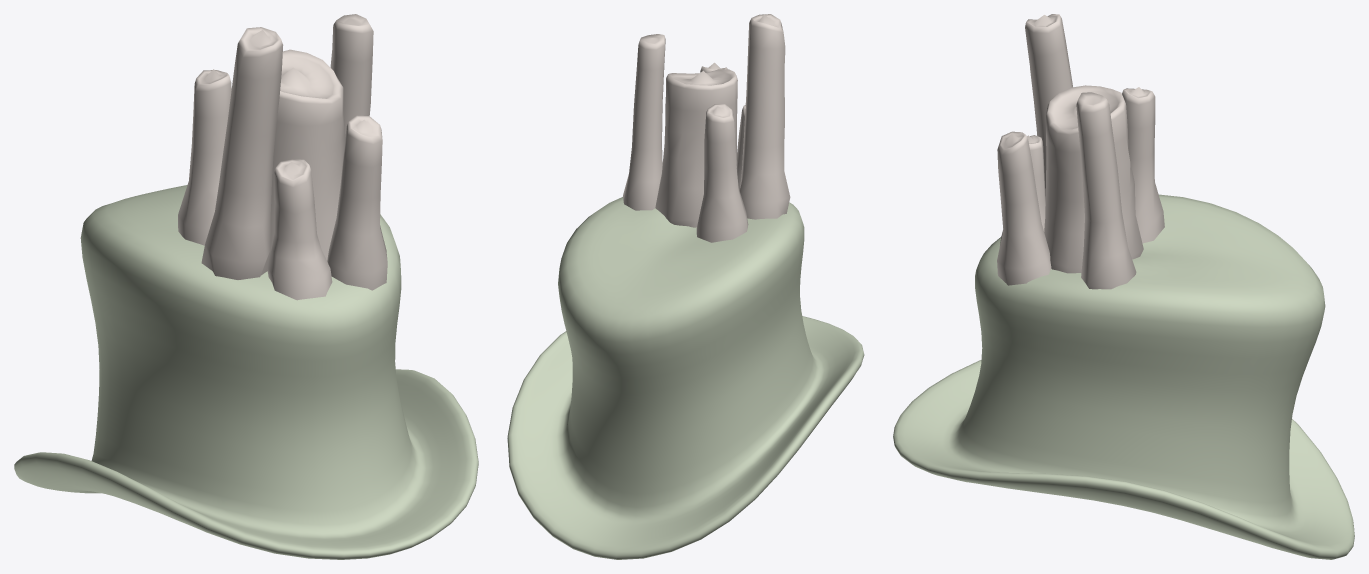
Rendered from DapperDan01_hat.fbx.
The picture shows the model from 3 angles, left to right: view 1: azimuth 30°, elevation 25°; view 2: azimuth 150°, elevation 25°; view 3: azimuth 270°, elevation 25°; orthographic projection. The views are drawn at different scales.
Parts seen in each view (by area): view 1: Hat_high, Candles_high; view 2: Hat_high, Candles_high; view 3: Hat_high, Candles_high.
Boxes of the visible parts, x1,y1,x2,y2 form: Hat_high: (14,185,478,559); Candles_high: (178,14,387,300); Hat_high: (507,197,864,559); Candles_high: (623,14,790,242); Hat_high: (893,194,1354,559); Candles_high: (997,14,1164,289).
Size of the model in its own units: 22.06 by 28.31 by 34.36.
